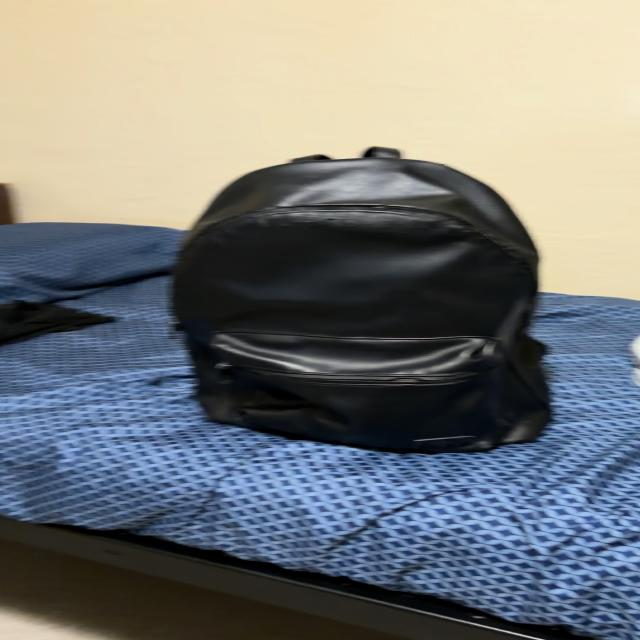backpack: (174, 148, 548, 452)
